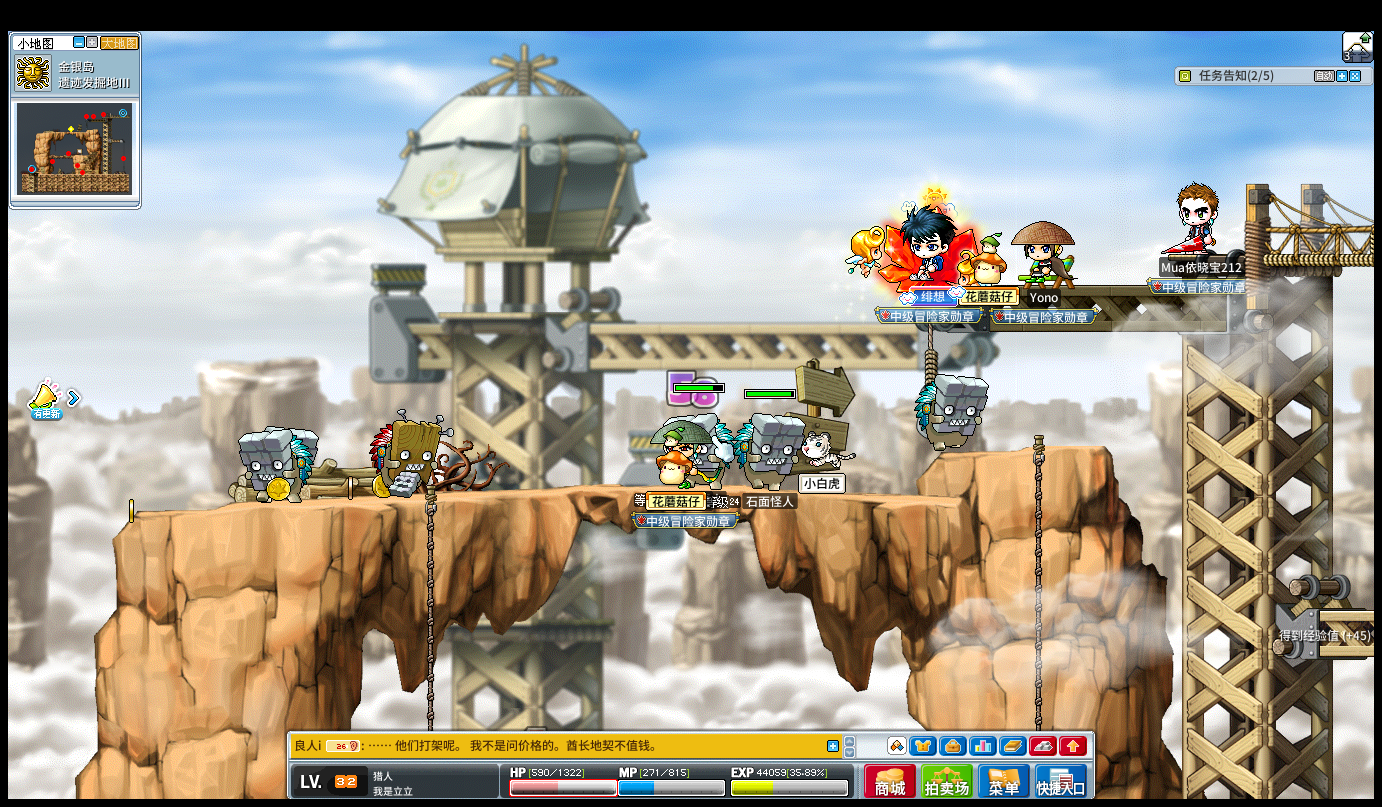floor: (117, 481, 969, 514), (141, 480, 986, 504), (933, 443, 1108, 459), (941, 441, 1108, 456), (1319, 606, 1376, 619)
monster: (367, 411, 452, 499), (914, 372, 989, 455), (237, 426, 314, 504), (734, 412, 804, 489)
rope: (1030, 432, 1045, 727), (422, 483, 437, 736), (423, 487, 436, 683)
